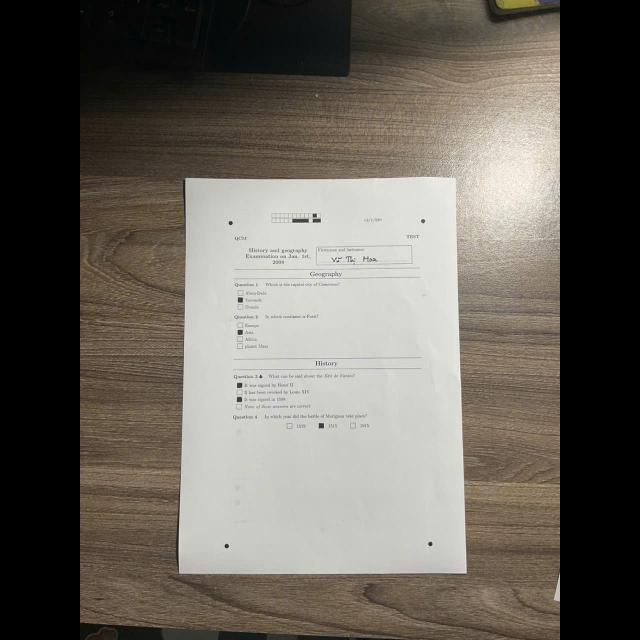Markers: (228, 220, 232, 226), (421, 218, 425, 224), (224, 544, 230, 548), (428, 542, 432, 546)
